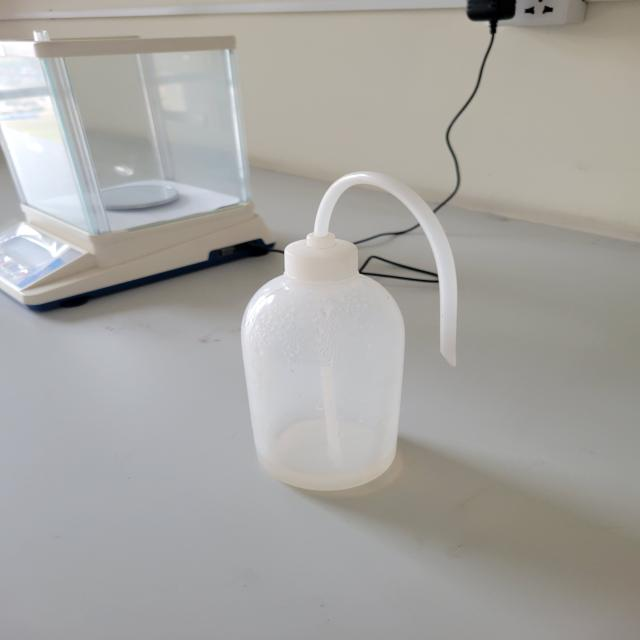Wash_Bottle: (222, 146, 478, 521)
